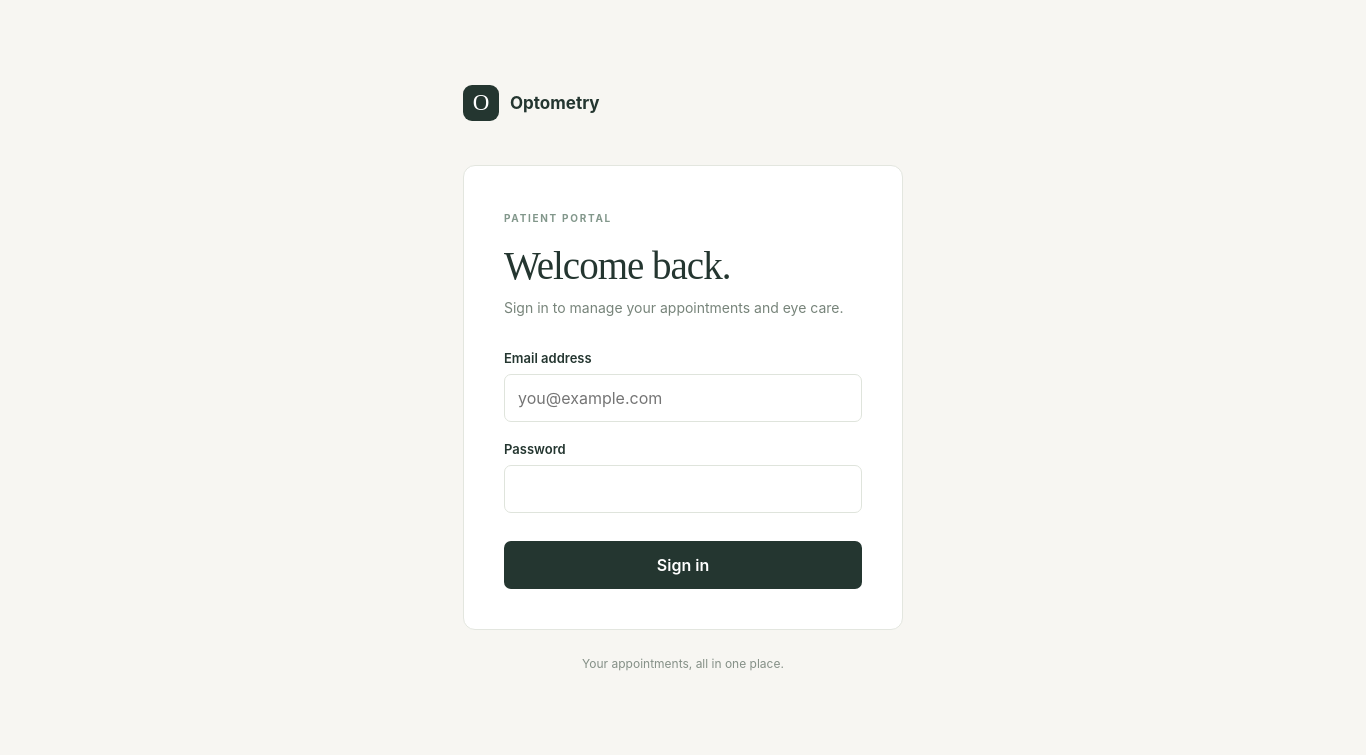
Test: Authenticated application routing › logs in and displays the patient dashboard
Step 1. Type "patient@example.com" into the field labelled "Email address" → [683, 398], box [504, 374, 862, 422]
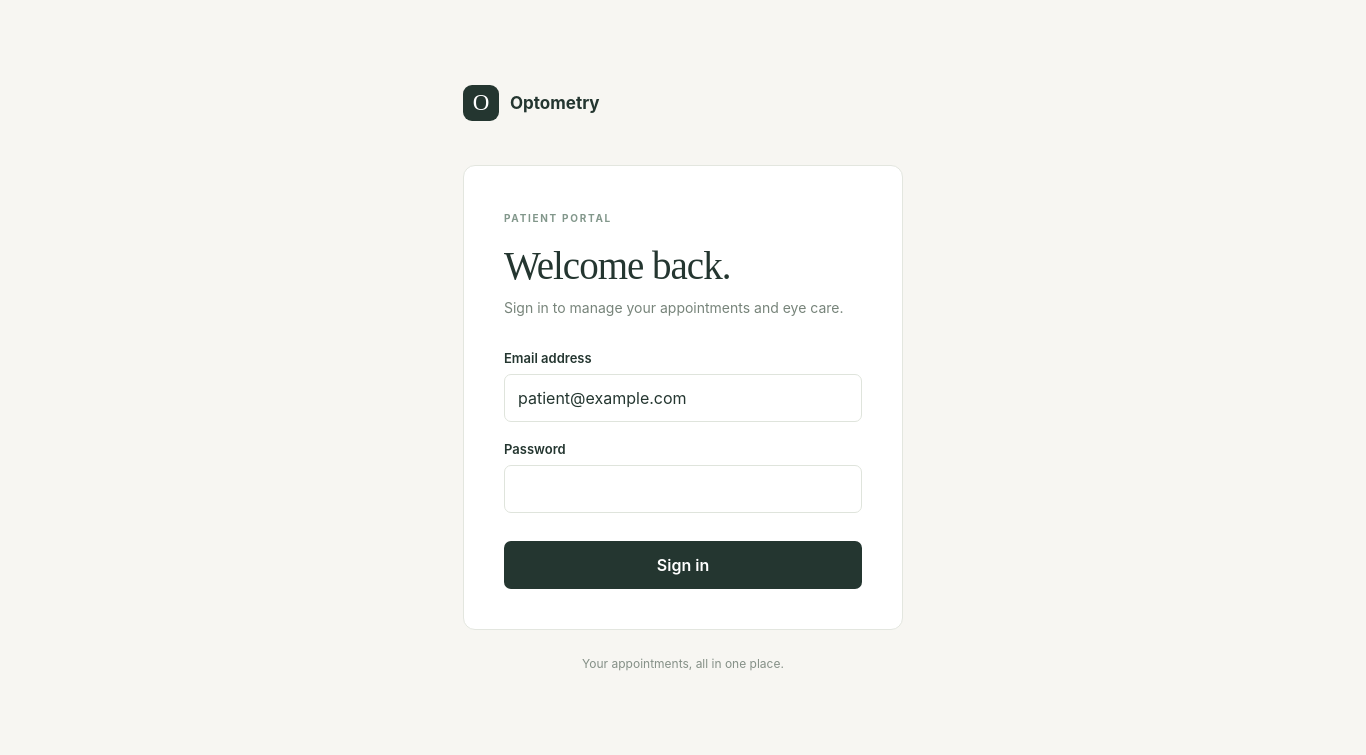
Step 2. Type "test-password" into the password field labelled "Password" → [683, 489], box [504, 465, 862, 513]
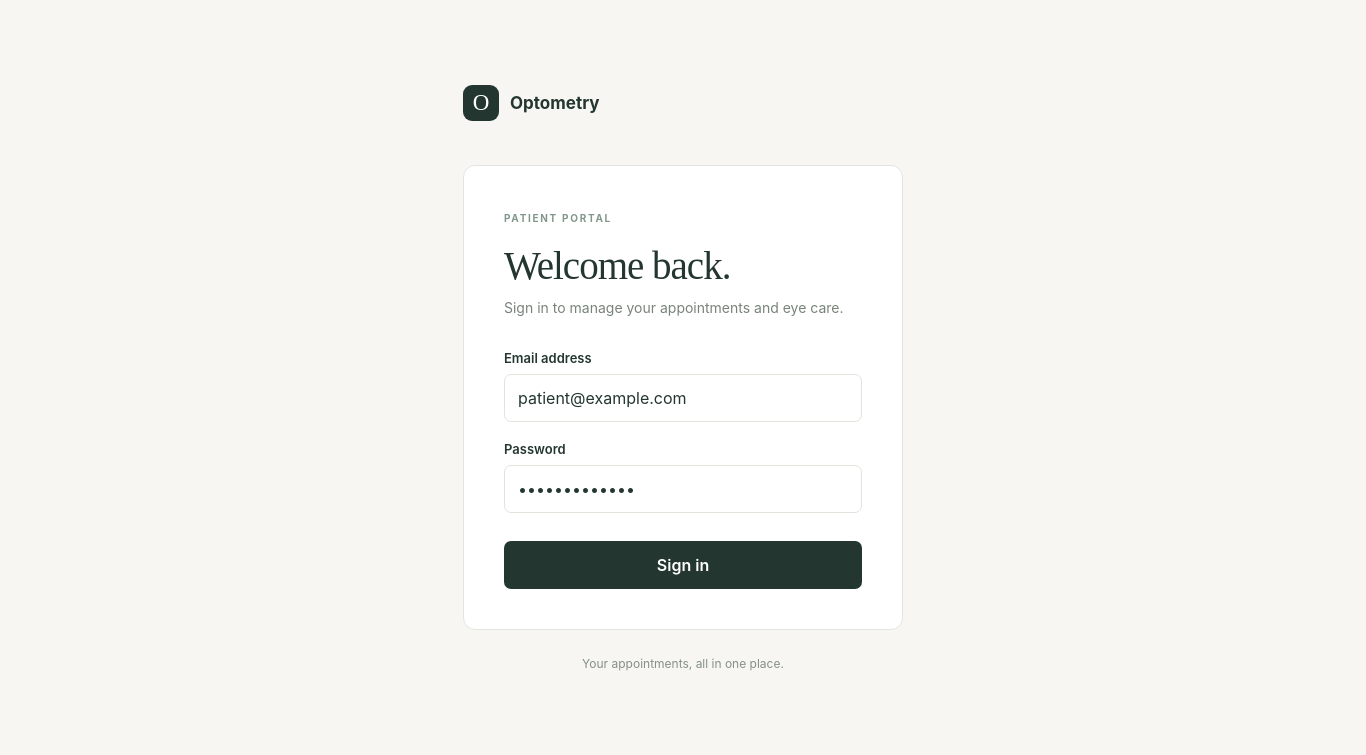
Step 3. Click the button "Sign in" → [683, 565], box [504, 541, 862, 589]
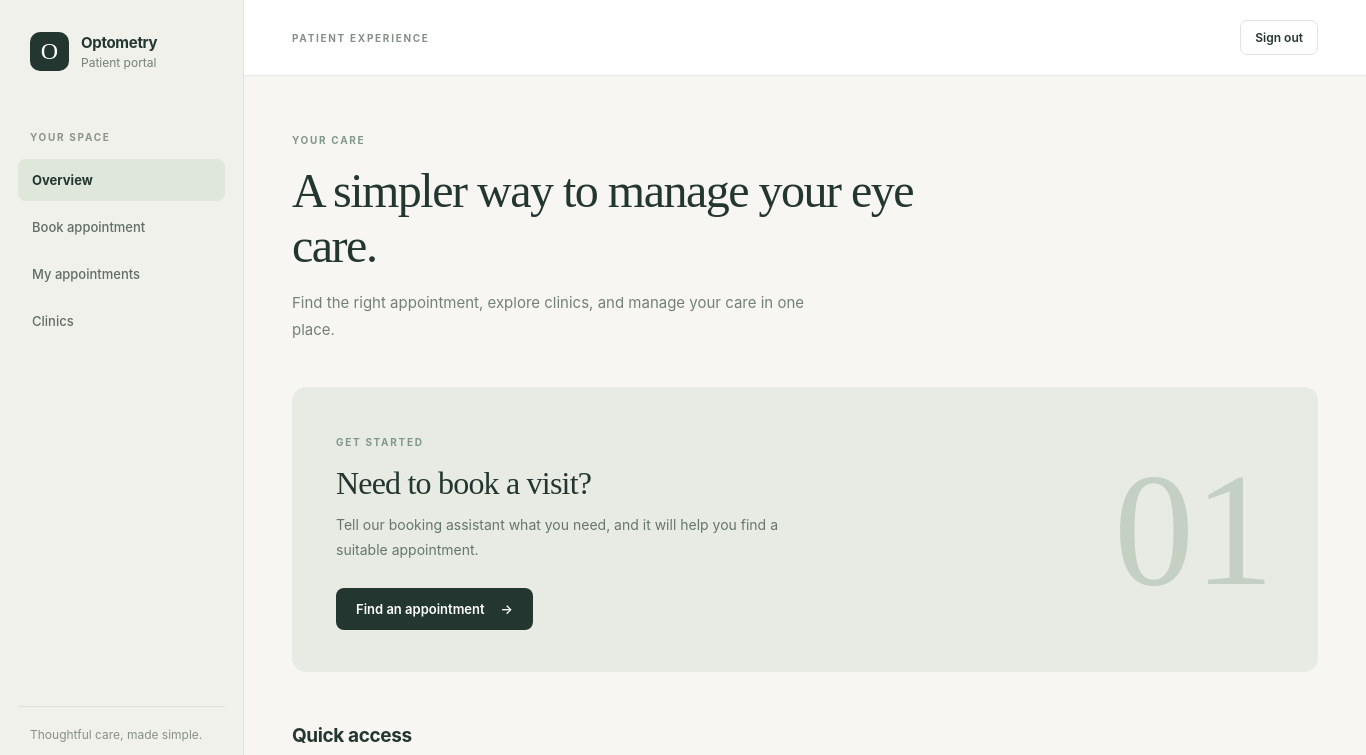
expect the heading "A simpler way to manage your eye care." is shown: met, box [292, 163, 942, 273]
Step 4. Click the button "Sign out" → [1279, 38], box [1240, 20, 1318, 55]
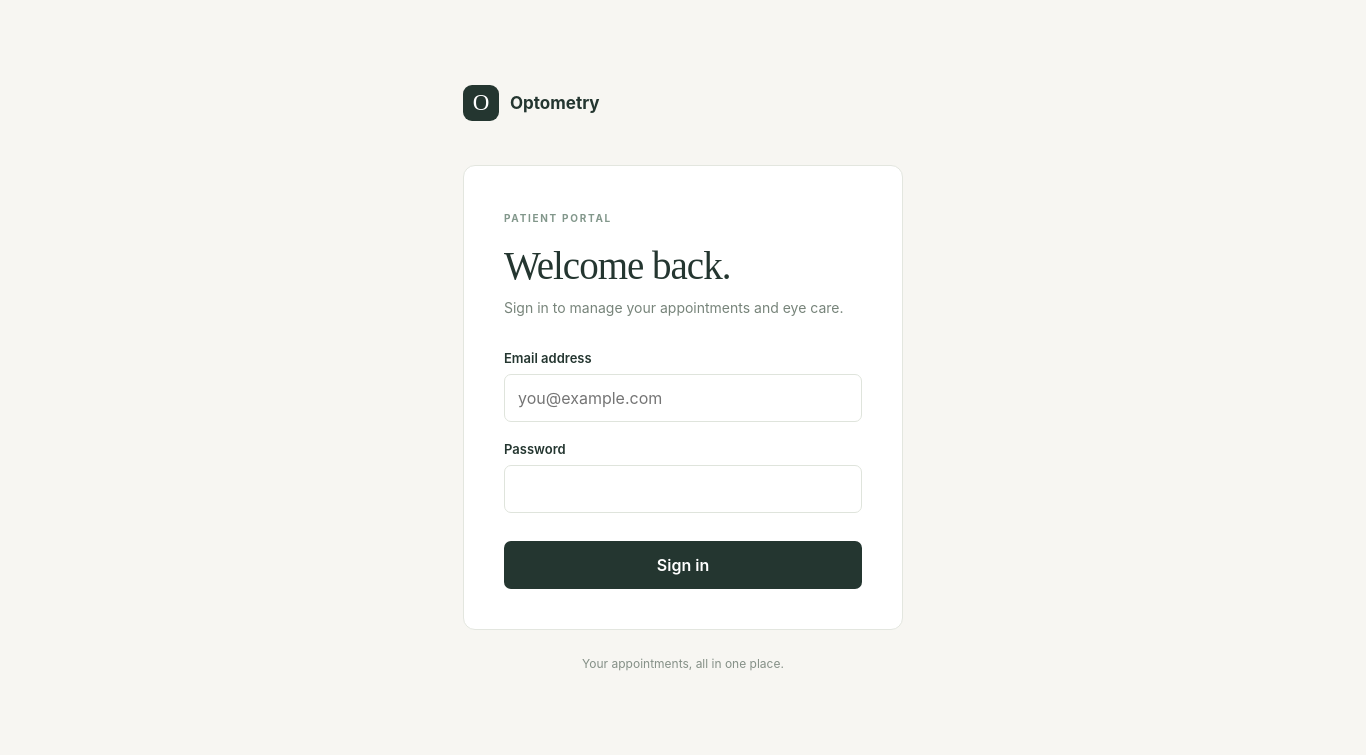
expect the heading "Welcome back." is shown: met, box [504, 244, 730, 287]
